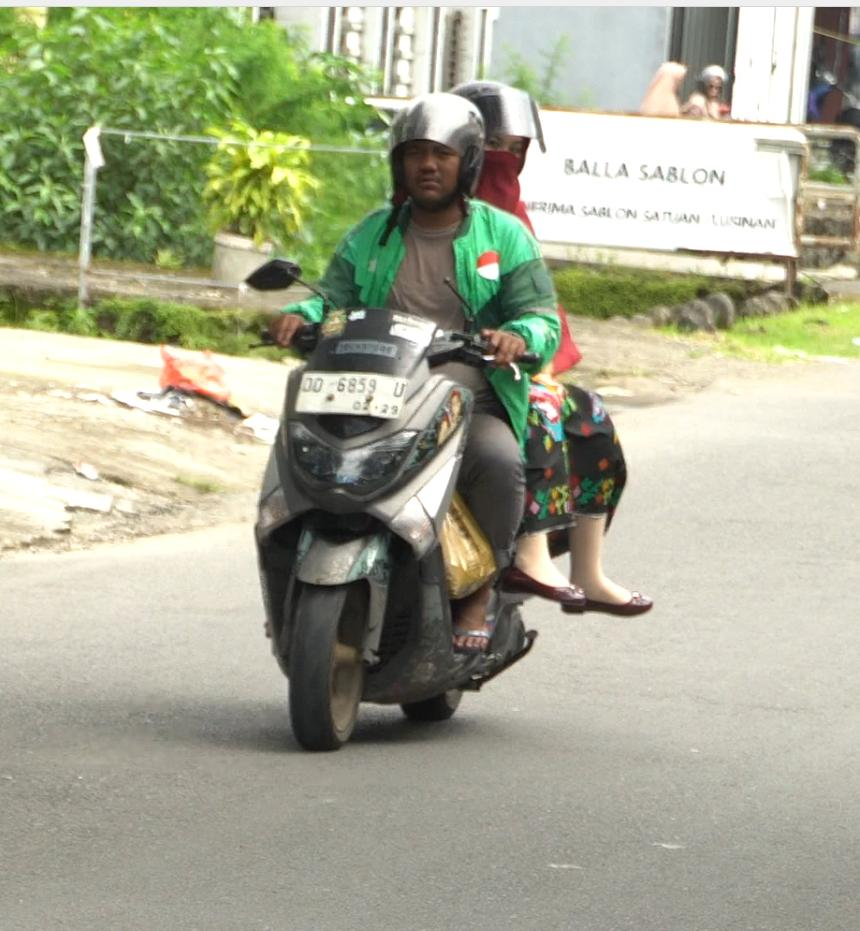number-plate: (294, 368, 411, 419)
